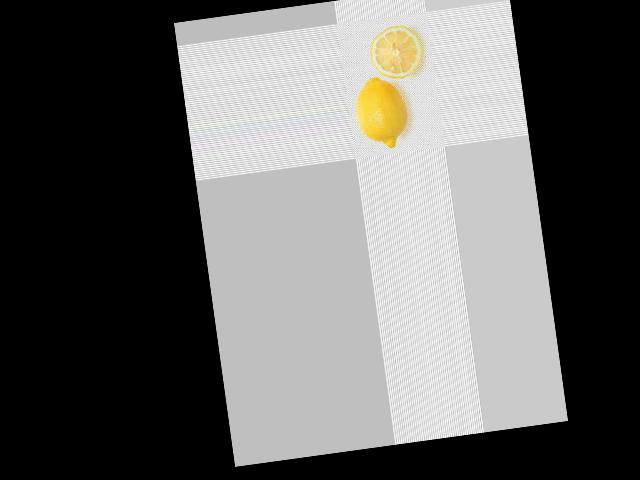lemon: (349, 73, 415, 157)
